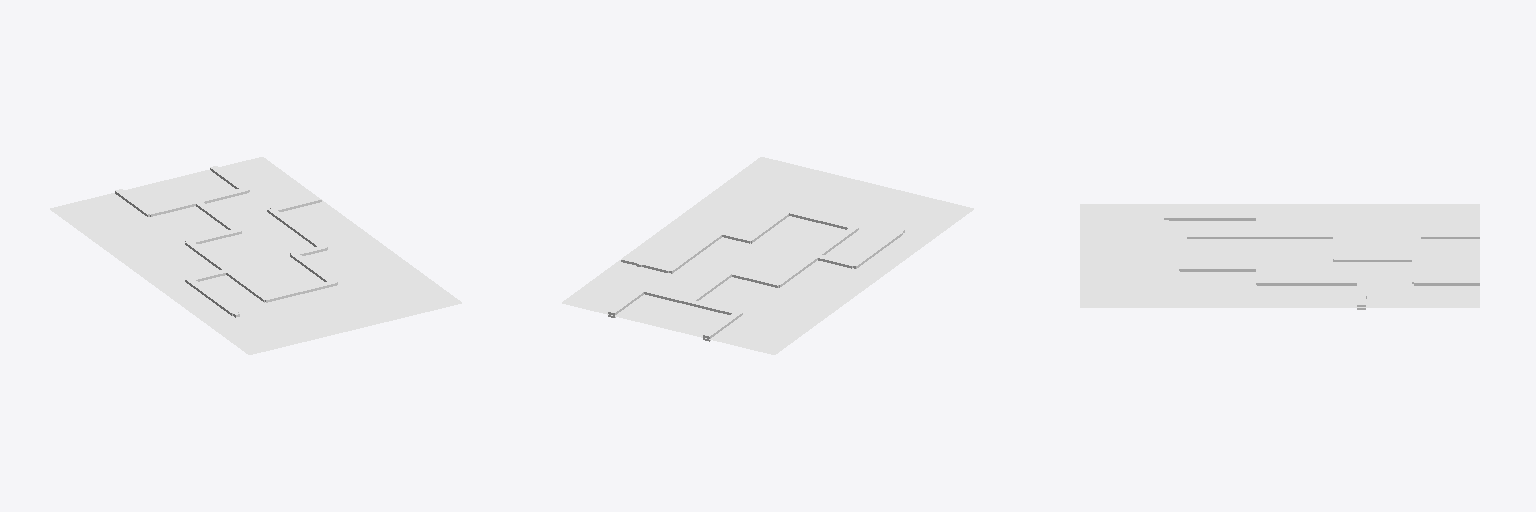
3 renders of one model, left to right at view 1: azimuth 30°, elevation 25°; view 2: azimuth 150°, elevation 25°; view 3: azimuth 270°, elevation 25°, orthographic.
Parts seen in each view (by area): view 1: pPlane1, Collider; view 2: pPlane1, Collider; view 3: pPlane1, Collider.
Boxes of the visible parts, x1,y1,x2,y2 form: pPlane1: [50, 157, 461, 354]; Collider: [115, 166, 337, 315]; pPlane1: [562, 157, 973, 354]; Collider: [608, 209, 902, 341]; pPlane1: [1080, 204, 1479, 307]; Collider: [1169, 215, 1479, 309].
Size of the model in its own units: 45 by 1 by 73.